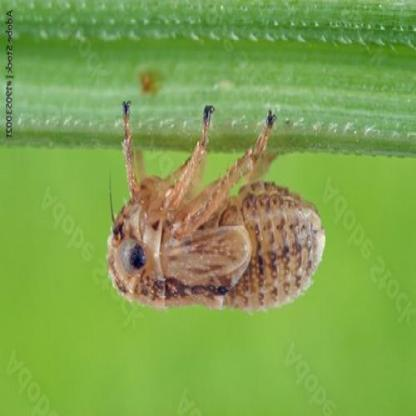brown-planthopper: (106, 106, 326, 314)
